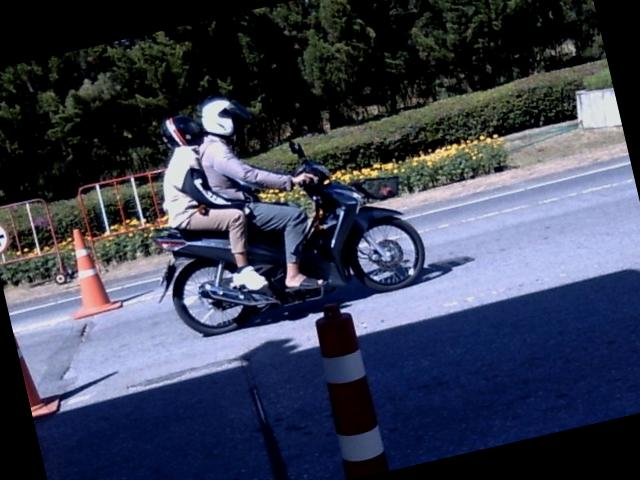helmet: (198, 89, 255, 143), (160, 115, 202, 147)
motor: (151, 141, 424, 335)
person: (197, 96, 325, 290), (160, 114, 265, 290)
